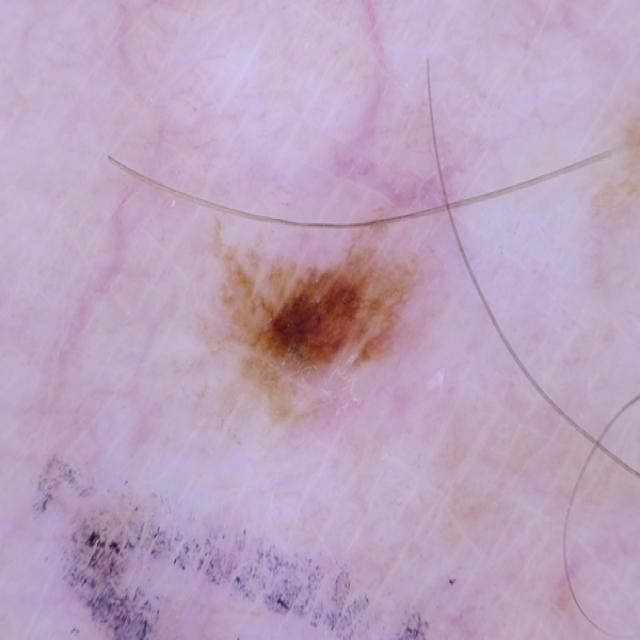NV: (189, 202, 448, 444)
